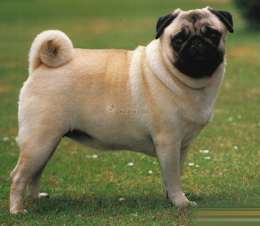dog: (137, 1, 255, 105)
